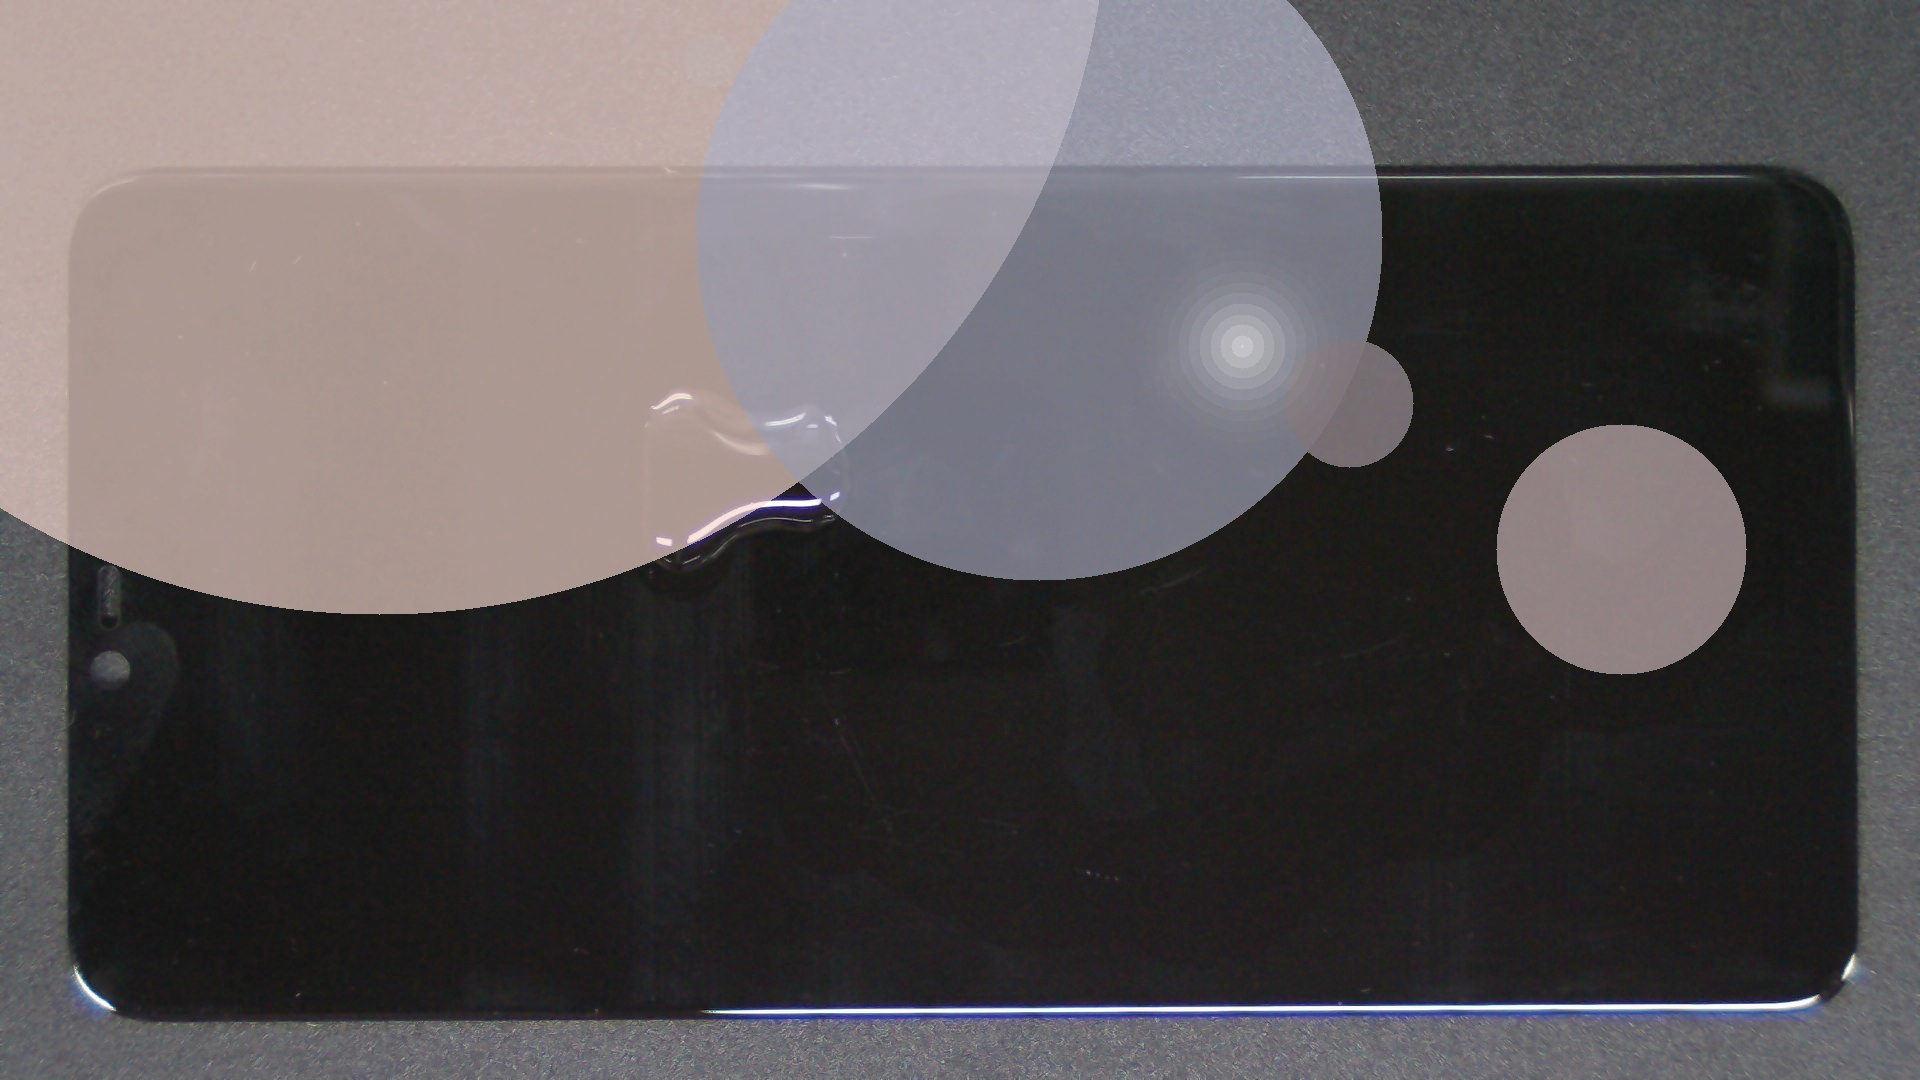oil: (348, 193, 1043, 578)
